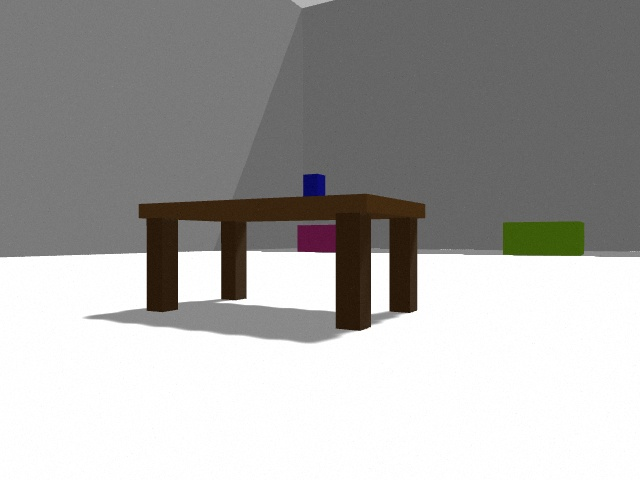blue_cube: (303, 174, 325, 196)
green_drop_zone: (503, 221, 584, 256)
red_drop_zone: (297, 225, 335, 252)
